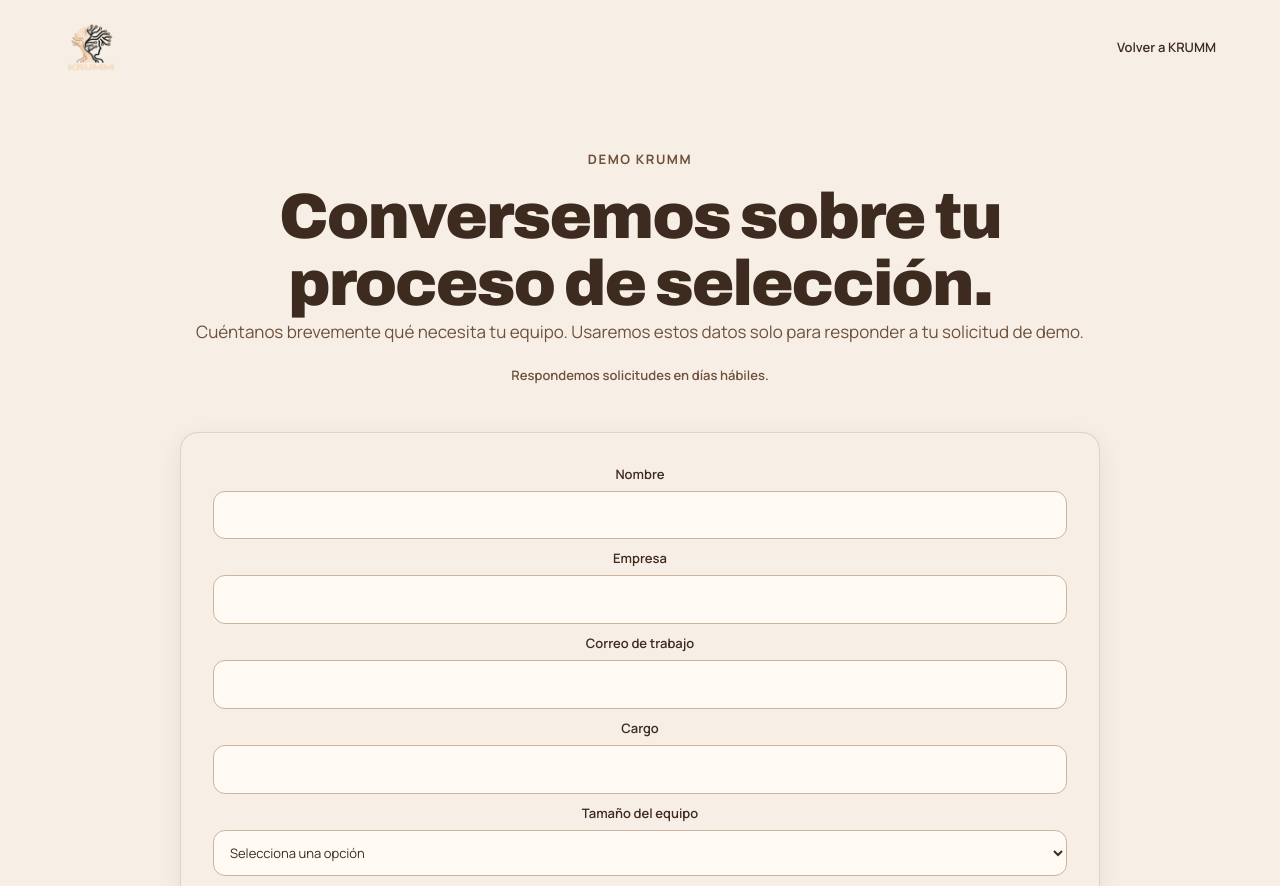
Test: DemoRequestPage › submits exactly the allowlisted payload and shows a privacy-safe confirmation
Type "Ada Lovelace" into the field labelled "Nombre".
click(640, 515); type("Ada Lovelace")  # box top-left (213, 491), bottom-right (1067, 539)
Type "ada@analytical.example" into the field labelled "Correo de trabajo".
click(640, 684); type("ada@analytical.example")  # box top-left (213, 660), bottom-right (1067, 709)
Type "Analytical Engines Ltd" into the field labelled "Empresa".
click(640, 600); type("Analytical Engines Ltd")  # box top-left (213, 575), bottom-right (1067, 624)
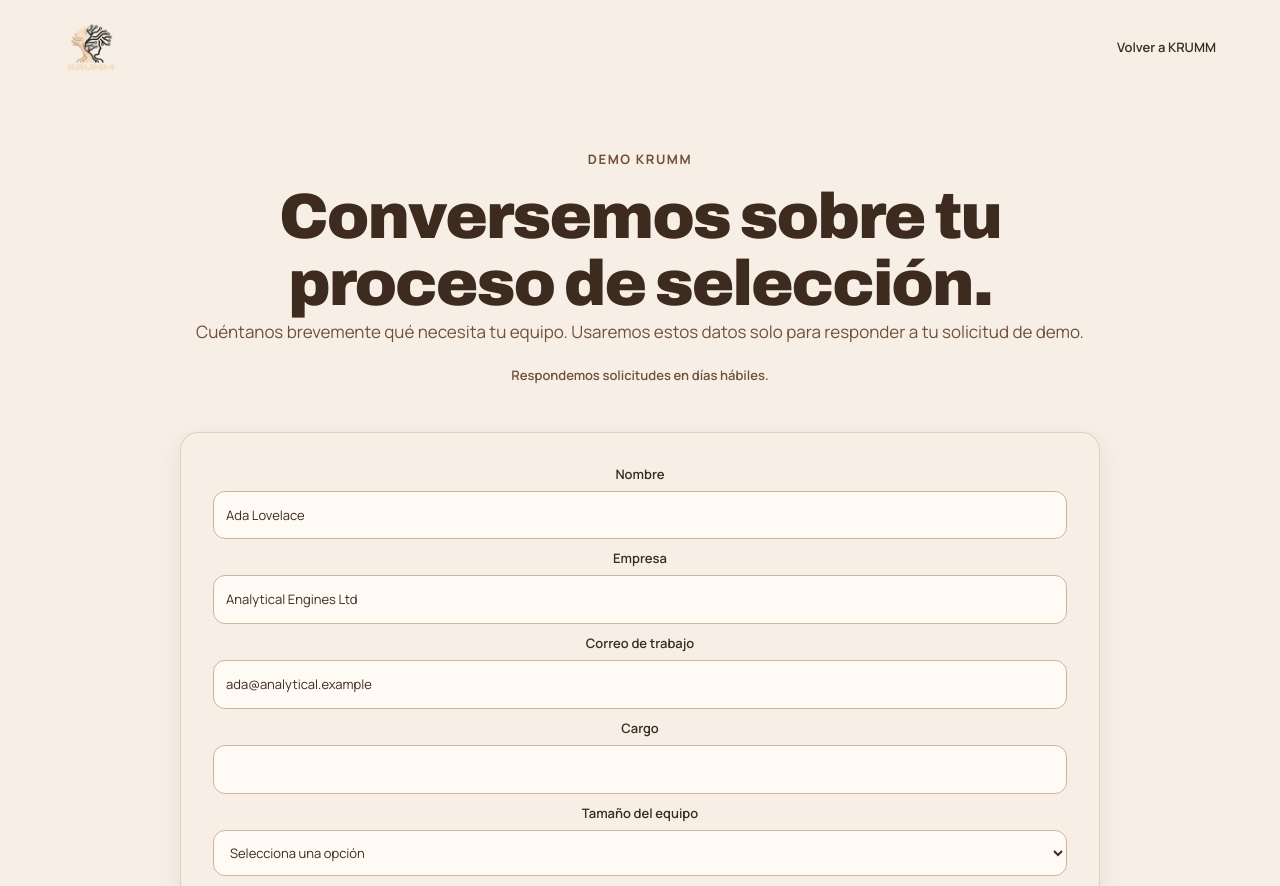
Type "Engineering Lead" into the field labelled "Cargo".
click(640, 769); type("Engineering Lead")  # box top-left (213, 745), bottom-right (1067, 794)
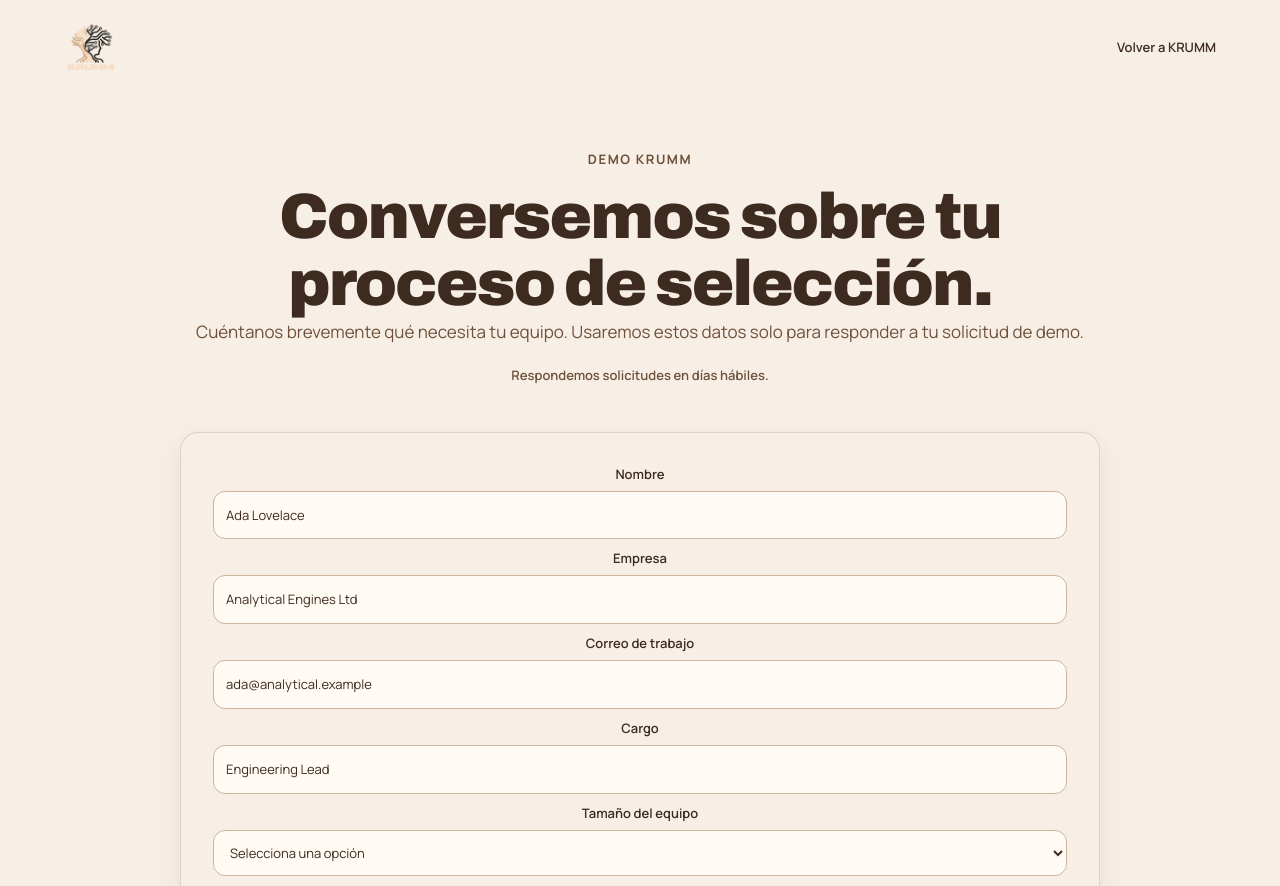
Select "11–50 personas" in the dropdown labelled "Tamaño del equipo" at (640, 853), box top-left (213, 830), bottom-right (1067, 876)
(page scrolled)
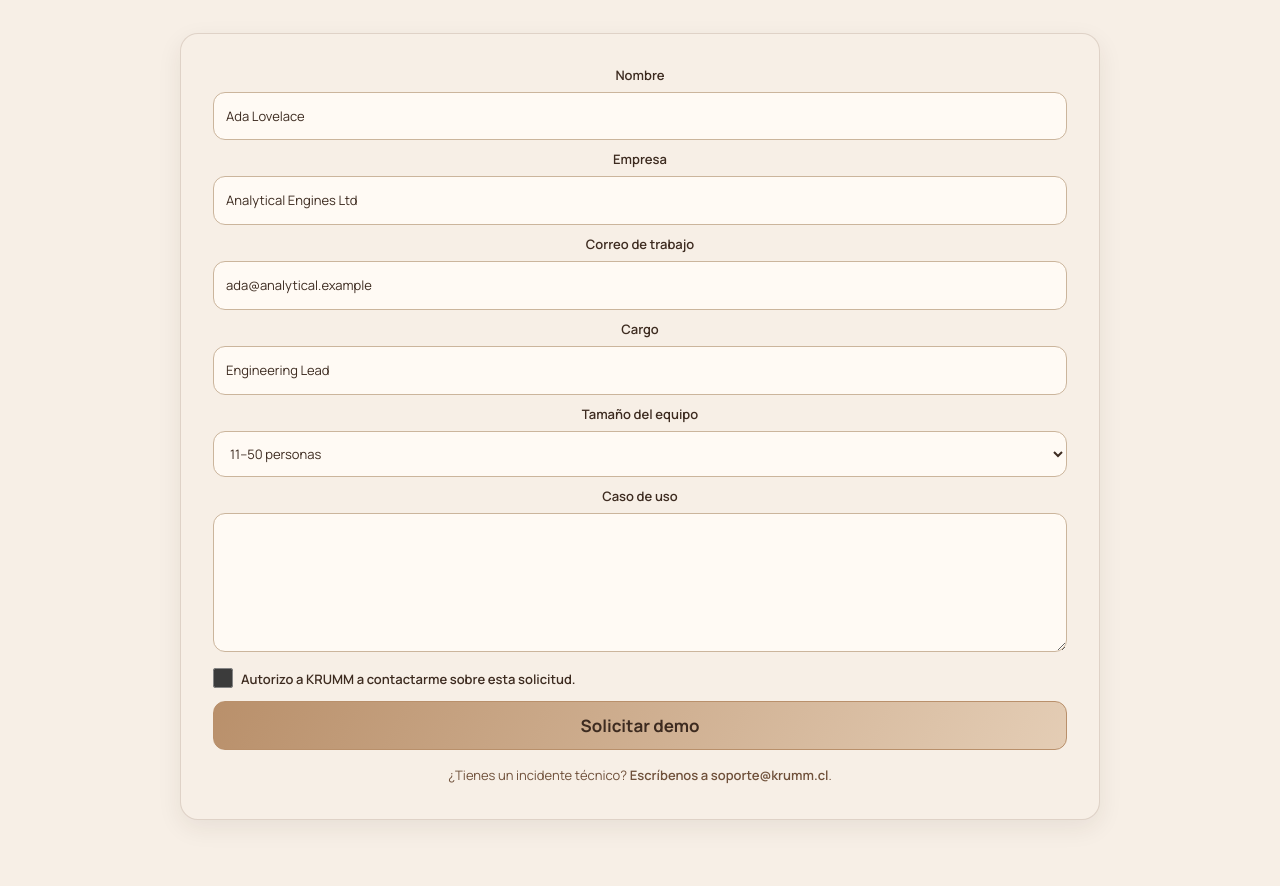
Type "Structured hiring assessment." into the text box labelled "Caso de uso".
click(640, 582); type("Structured hiring assessment.")  # box top-left (213, 513), bottom-right (1067, 652)
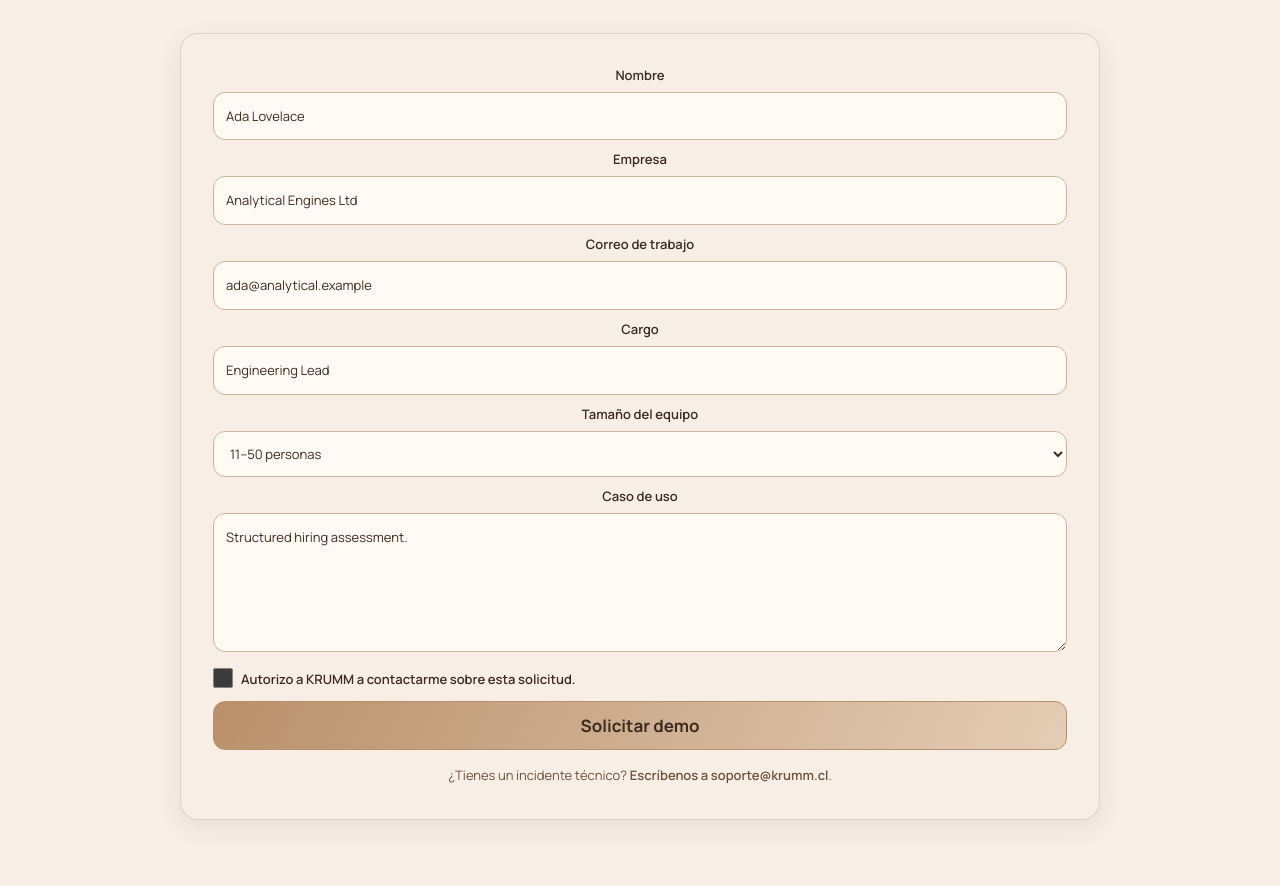
Click the checkbox labelled "Autorizo a KRUMM a contactarme sobre esta solicitud.".
click(223, 678)  # box top-left (213, 668), bottom-right (233, 688)
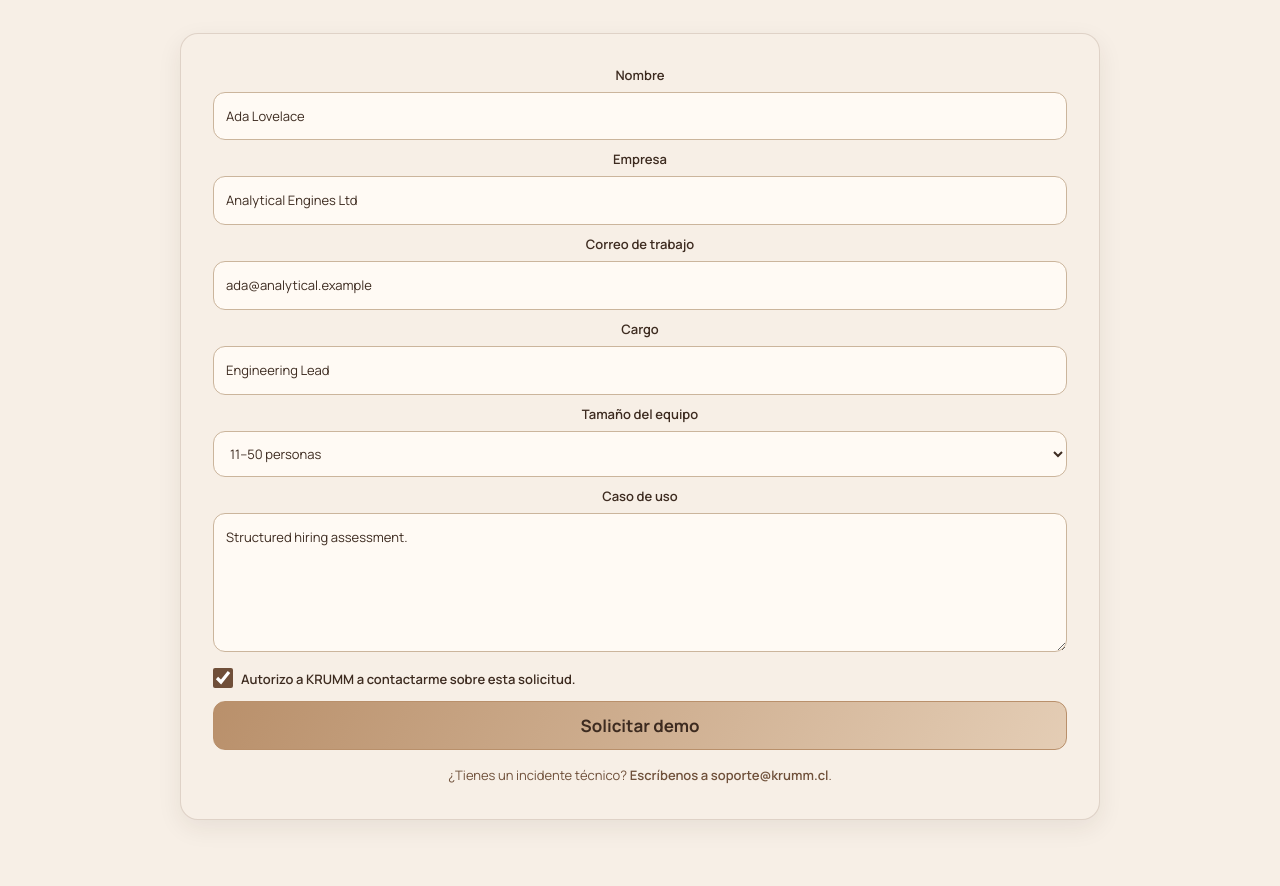
Click the button "Solicitar demo".
click(640, 726)  # box top-left (213, 701), bottom-right (1067, 750)
(page scrolled)
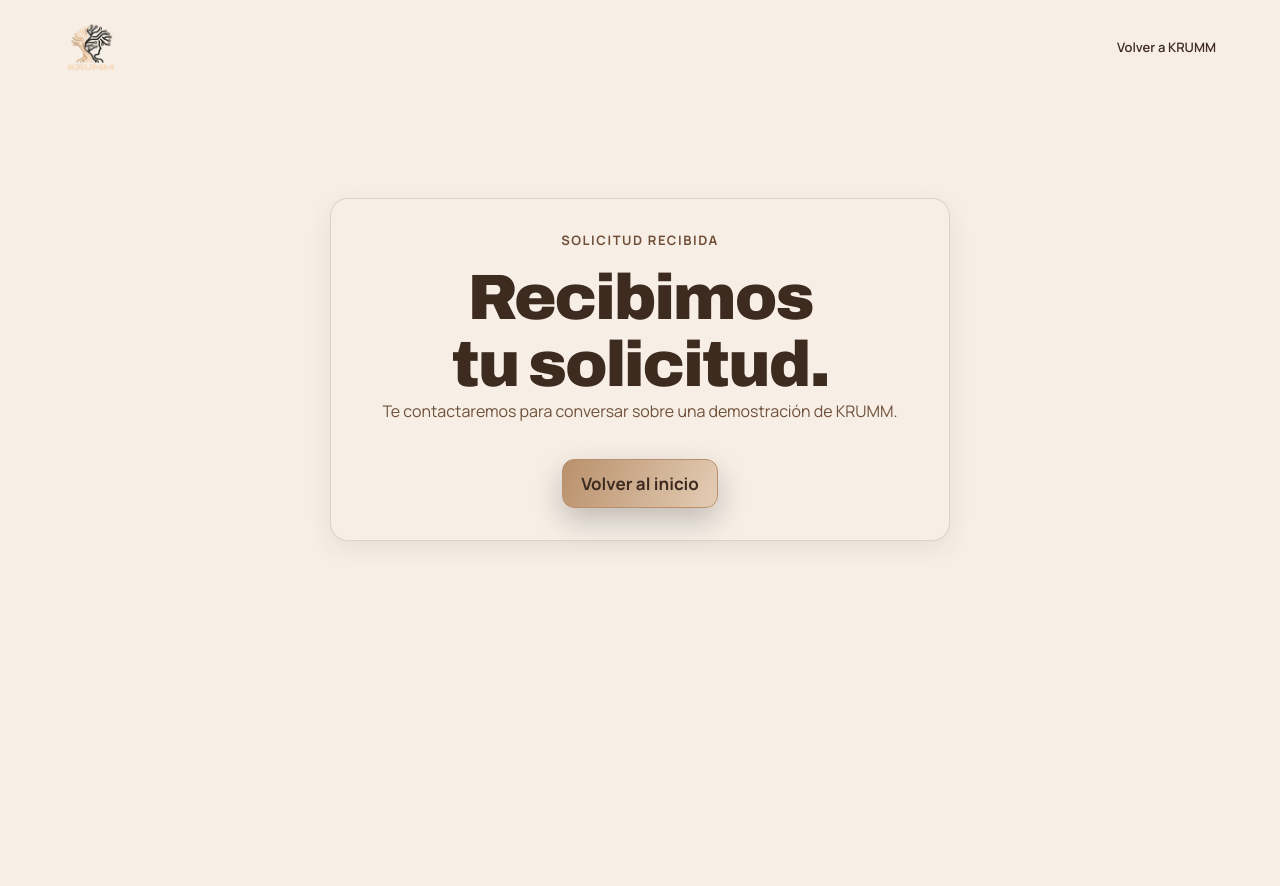
Check: the text "ada@analytical.example" is not shown
Check: the heading "Recibimos tu solicitud." is shown, box top-left (451, 263), bottom-right (829, 398)
